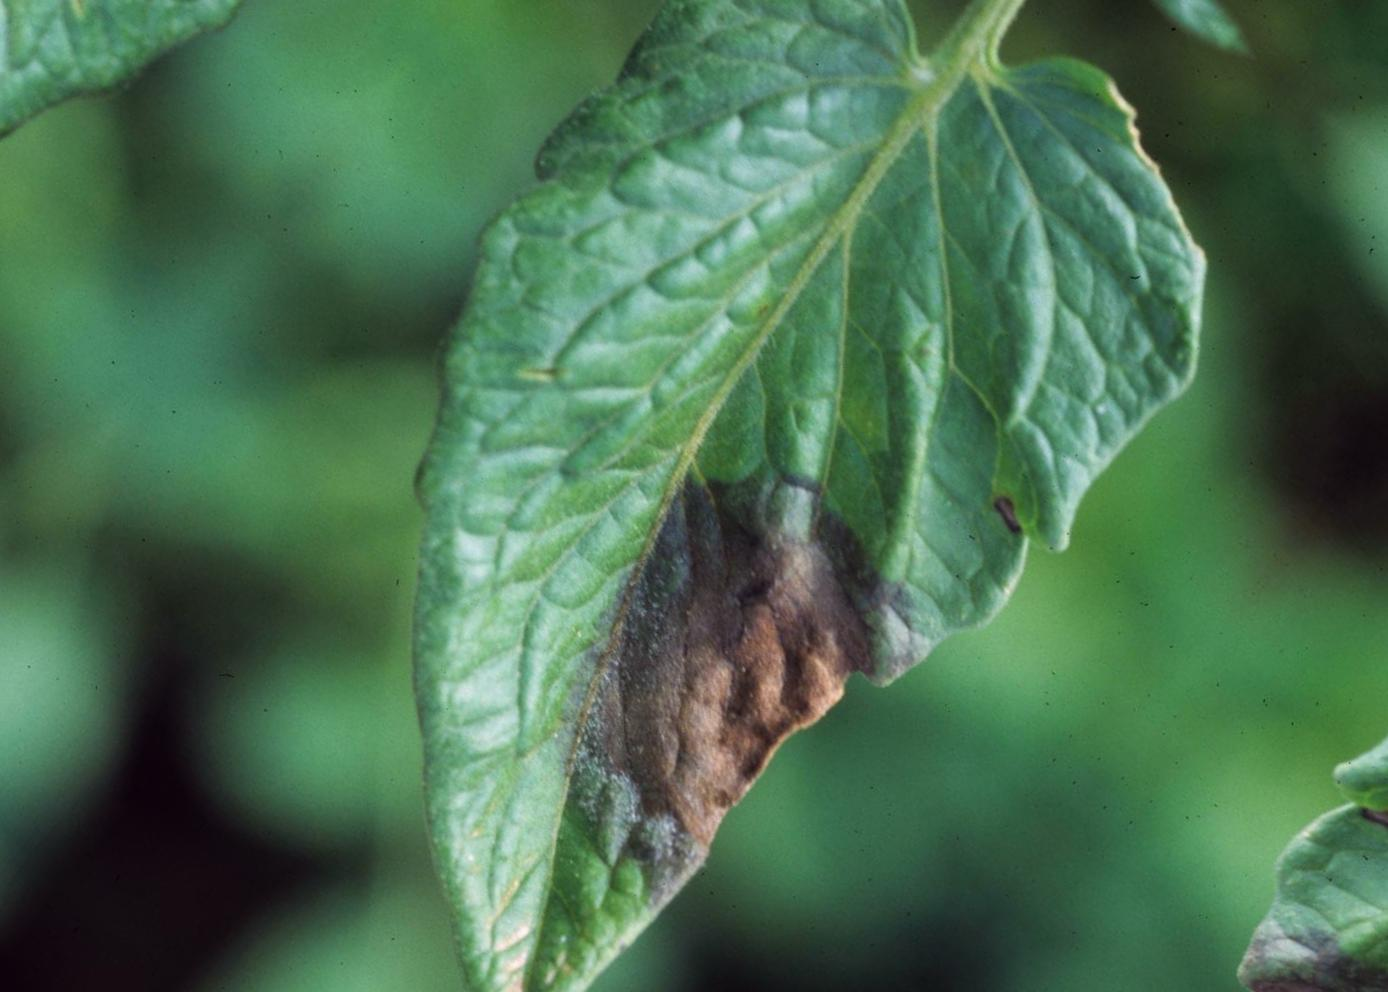Tomato leaf late blight: (23, 0, 1362, 992)
